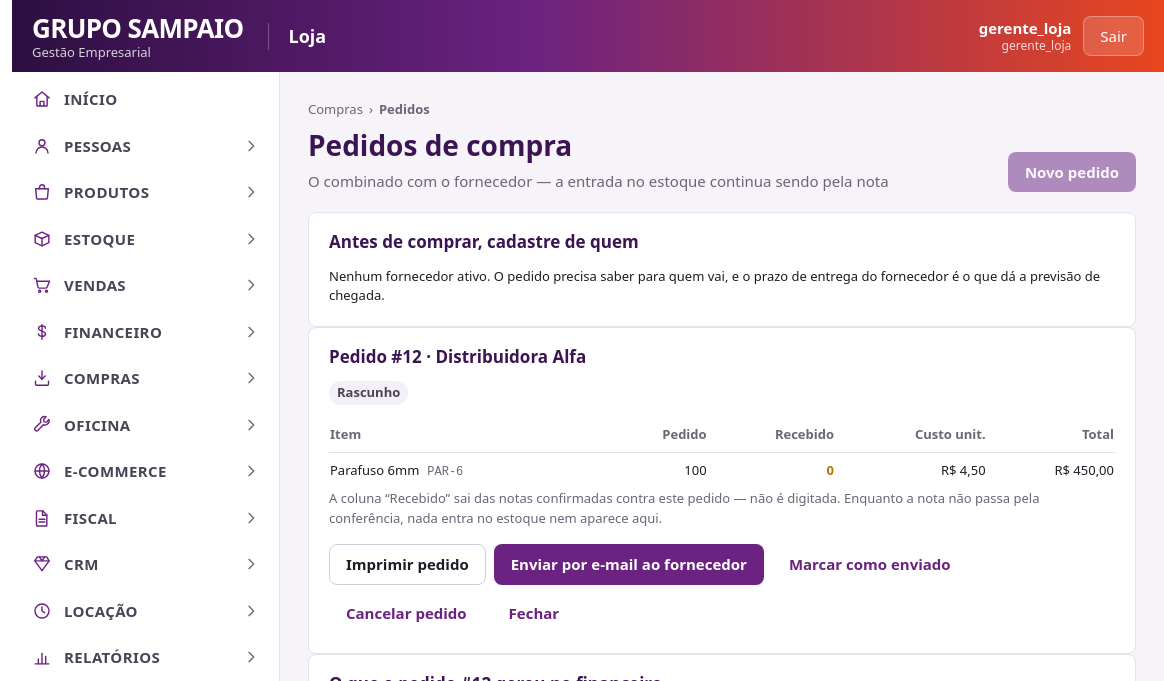
GAP-PRD-090 — os três gestos com os três nomes › sem SMTP, a frase diz que ficou na fila — e não que foi enviado
The width and height of the screenshot is (1164, 681).
Click the button "Enviar por e-mail ao fornecedor". click: (629, 564)
box: [494, 544, 764, 584]
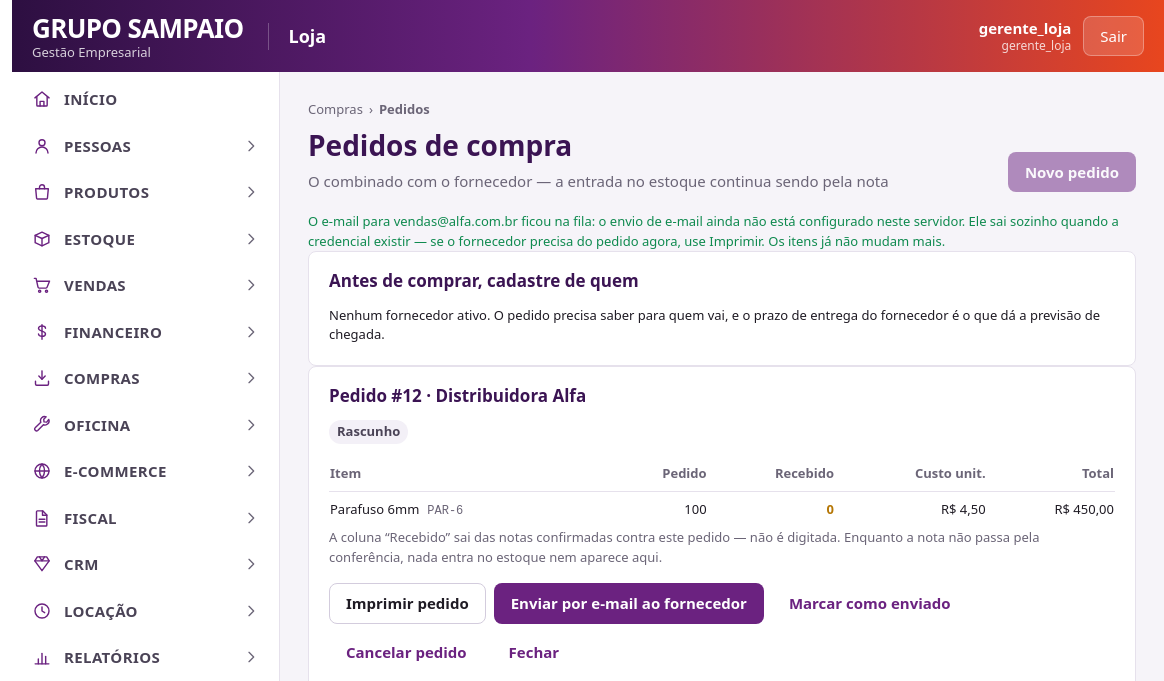
Expected: the text "vendas@alfa.com.br" is shown, [308, 212, 1119, 250]
